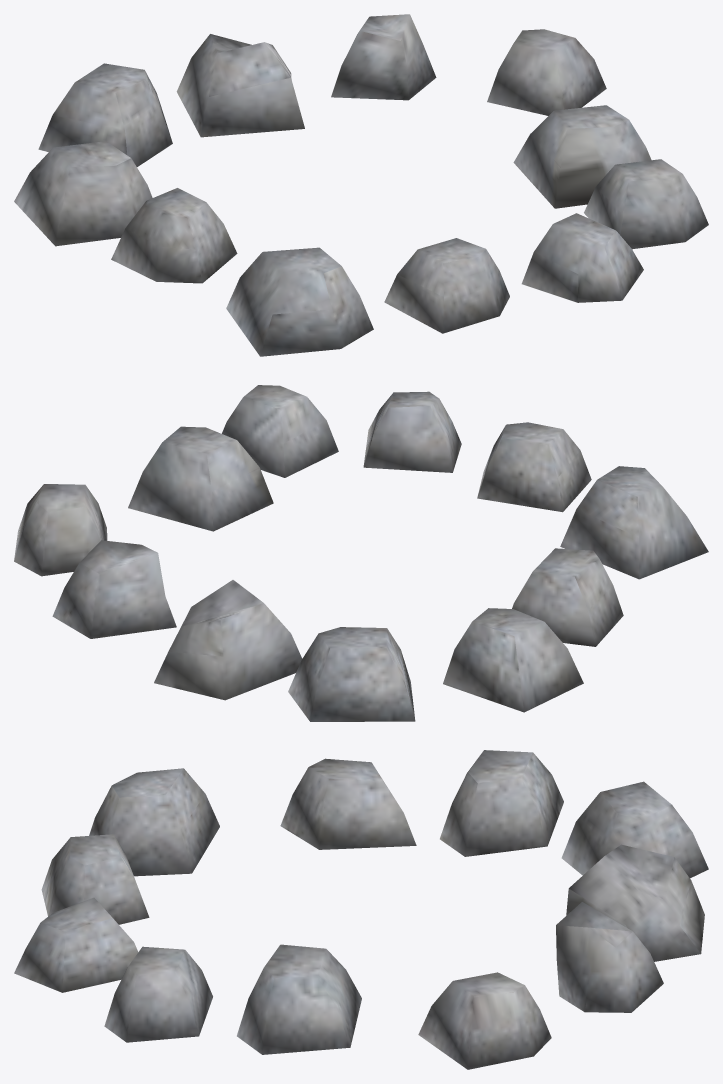
Rendered from campfire_stones.glb.
3 views of the same model, one above another, from view 1: azimuth 30°, elevation 25°; view 2: azimuth 150°, elevation 25°; view 3: azimuth 270°, elevation 25° (orthographic). The views are drawn at different scales.
Parts seen in each view (by area): view 1: bonfire_bonfire_0; view 2: bonfire_bonfire_0; view 3: bonfire_bonfire_0.
Boxes of the visible parts, x1,y1,x2,y2 form: bonfire_bonfire_0: (14,14,708,356); bonfire_bonfire_0: (14,385,708,721); bonfire_bonfire_0: (14,750,708,1069).
Bounding box in the file's own units: 3.48 × 0.5147 × 3.58.
1 material, 1 textured.
